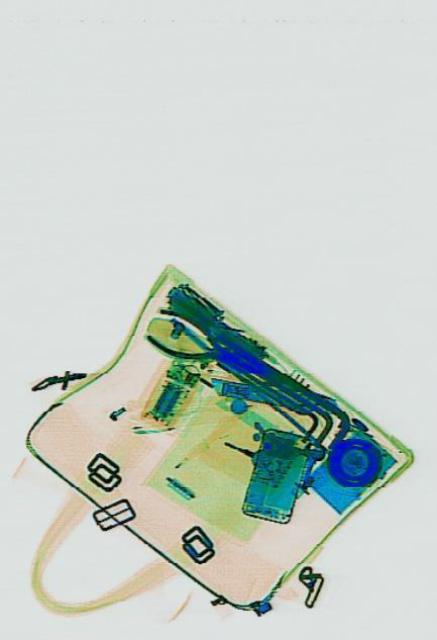Pliers: (143, 301, 246, 387)
